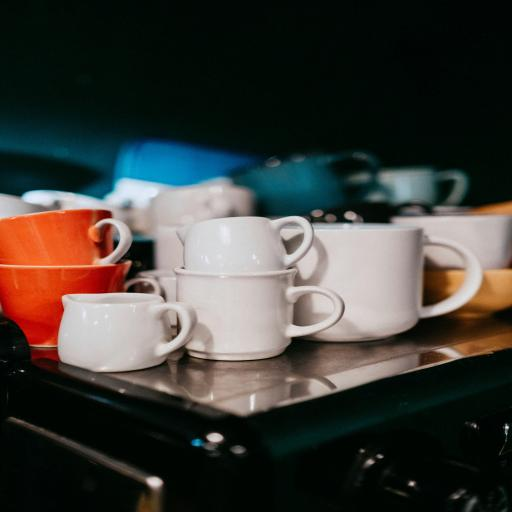phone: (0, 260, 131, 347), (0, 208, 133, 267)
